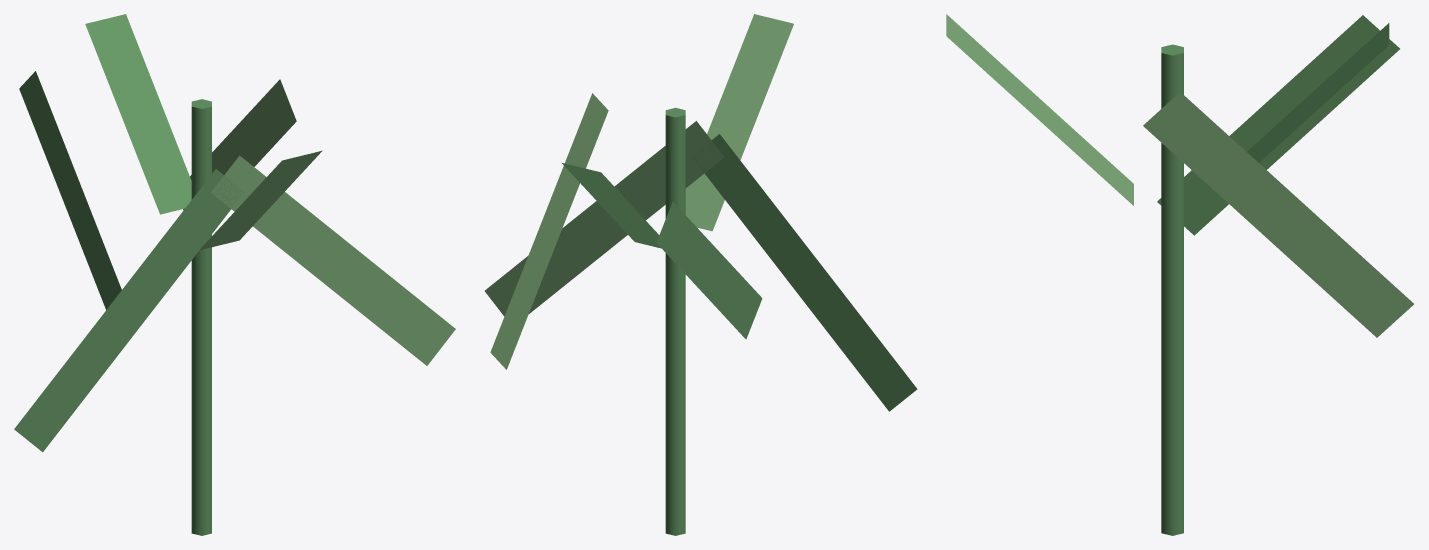
The model's file is fern.glb.
The picture shows the model from 3 angles, left to right: view 1: azimuth 30°, elevation 25°; view 2: azimuth 150°, elevation 25°; view 3: azimuth 270°, elevation 25°; orthographic projection. The views are drawn at different scales.
Parts seen in each view (by area): view 1: frond_2, frond_1, frond_6, stem, frond_4, frond_3, frond_5; view 2: frond_2, frond_1, stem, frond_5, frond_3, frond_4, frond_6; view 3: frond_3, stem, frond_4, frond_5, frond_6.
Boxes of the visible parts, x1,y1,x2,y2 form: frond_2: (14,169,242,452); frond_1: (211,155,455,365); frond_6: (85,14,191,214); stem: (191,99,211,535); frond_4: (19,71,121,309); frond_3: (183,79,296,210); frond_5: (200,150,322,249); frond_2: (691,134,917,411); frond_1: (485,121,723,316); stem: (665,107,685,535); frond_5: (685,14,793,231); frond_3: (490,93,608,369); frond_4: (656,201,762,339); frond_6: (561,162,661,248); frond_3: (1143,92,1413,337); stem: (1161,44,1183,535); frond_4: (1157,15,1399,235); frond_5: (946,14,1133,205); frond_6: (1247,23,1389,162).
Bounding box in the file's own units: 0.4333 × 0.4207 × 0.3532.
